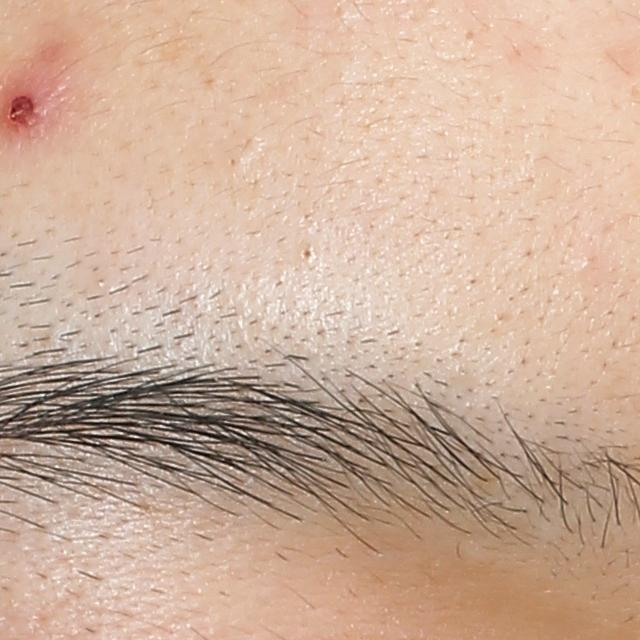comedo: (296, 243, 321, 266), (458, 24, 482, 46), (578, 254, 598, 272)
